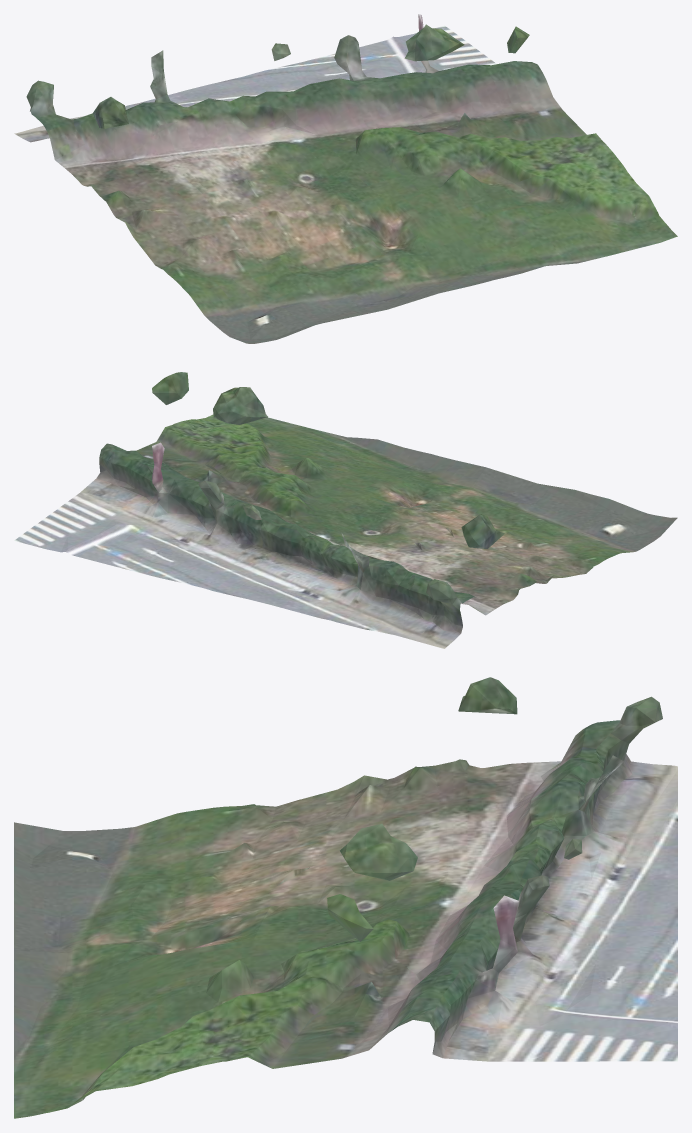
Rendered from Tile_+004_+000_L20_000220.glb.
The picture shows the model from 3 angles, top to bottom: view 1: azimuth 30°, elevation 25°; view 2: azimuth 150°, elevation 25°; view 3: azimuth 270°, elevation 25°; orthographic projection. The views are drawn at different scales.
Visible parts, largest first — view 1: rtc; view 2: rtc; view 3: rtc.
Boxes of the visible parts, x1,y1,x2,y2 form: rtc: (14,14,677,343); rtc: (14,372,677,648); rtc: (14,677,677,1118).
Size of the model in its own units: 25.69 by 9.01 by 24.07.
Materials: 1 (1 with a texture image).
